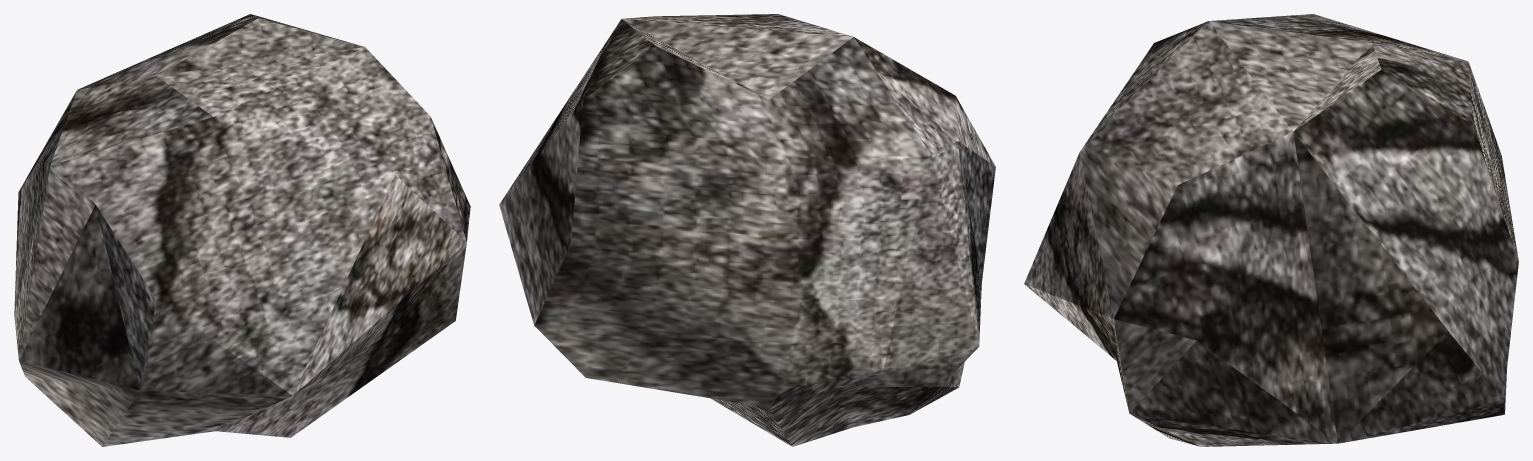
Rendered from Rock2LowPoly.fbx.
The picture shows the model from 3 angles, left to right: view 1: azimuth 30°, elevation 25°; view 2: azimuth 150°, elevation 25°; view 3: azimuth 270°, elevation 25°; orthographic projection. The views are drawn at different scales.
Visible parts, largest first — view 1: Rock2LowPoly; view 2: Rock2LowPoly; view 3: Rock2LowPoly.
Boxes of the visible parts, x1,y1,x2,y2 form: Rock2LowPoly: (14, 14, 470, 446); Rock2LowPoly: (499, 14, 995, 446); Rock2LowPoly: (1024, 14, 1518, 446).
Size of the model in its own units: 35818 by 29312 by 31710.
